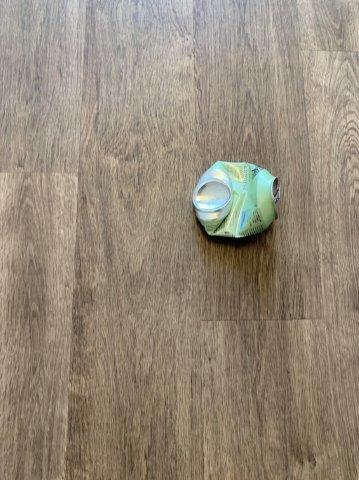kaleng: (193, 162, 280, 234)
